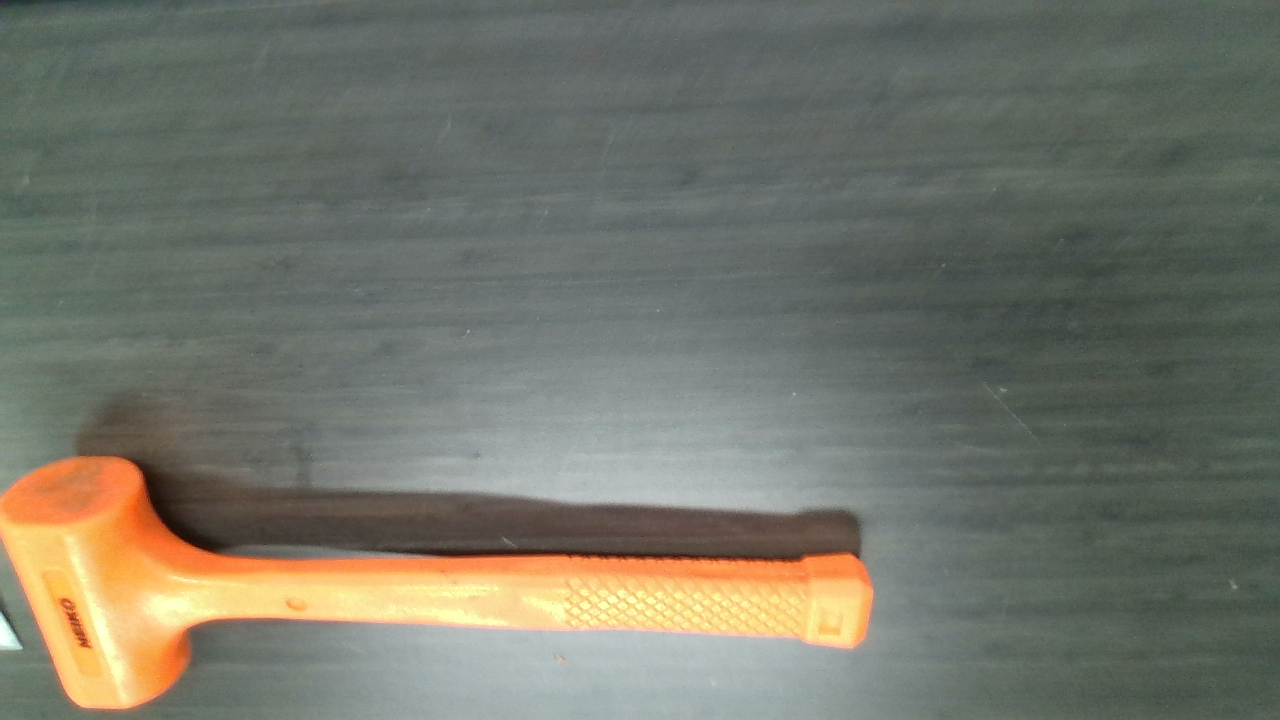Orange Hammer: (6, 458, 873, 708)
